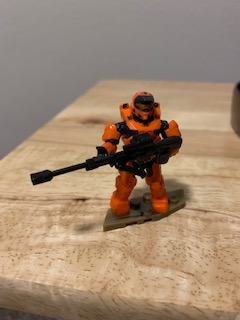spartan: (89, 91, 183, 216)
